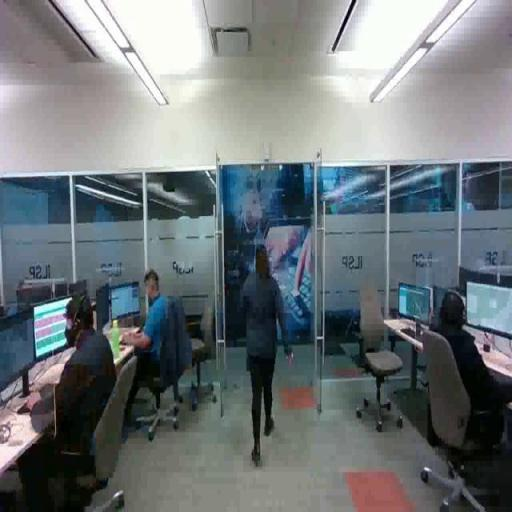person: (23, 298, 123, 512), (417, 286, 512, 470), (239, 241, 296, 468), (121, 270, 192, 413)
